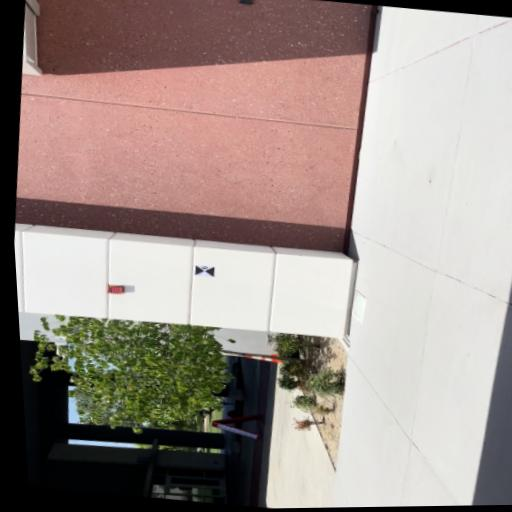target6: (195, 264, 215, 277)
